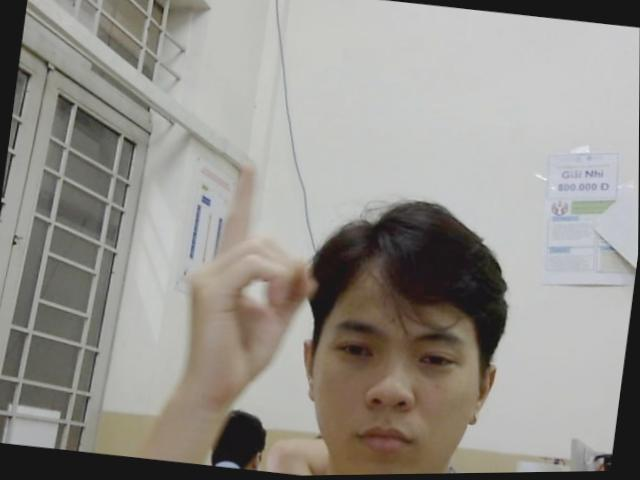D: (172, 153, 328, 417)
